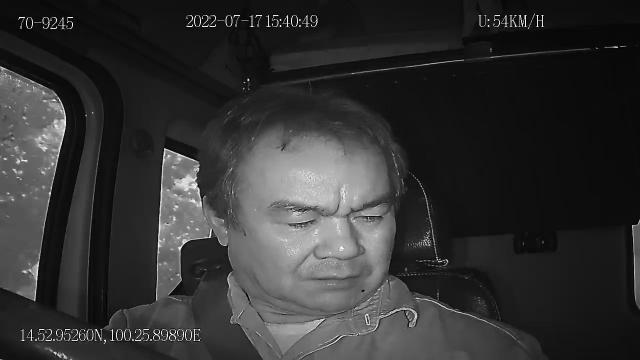SafeDriving: (268, 204, 326, 235), (344, 202, 394, 228)
Seatbelt: (190, 268, 266, 360)
